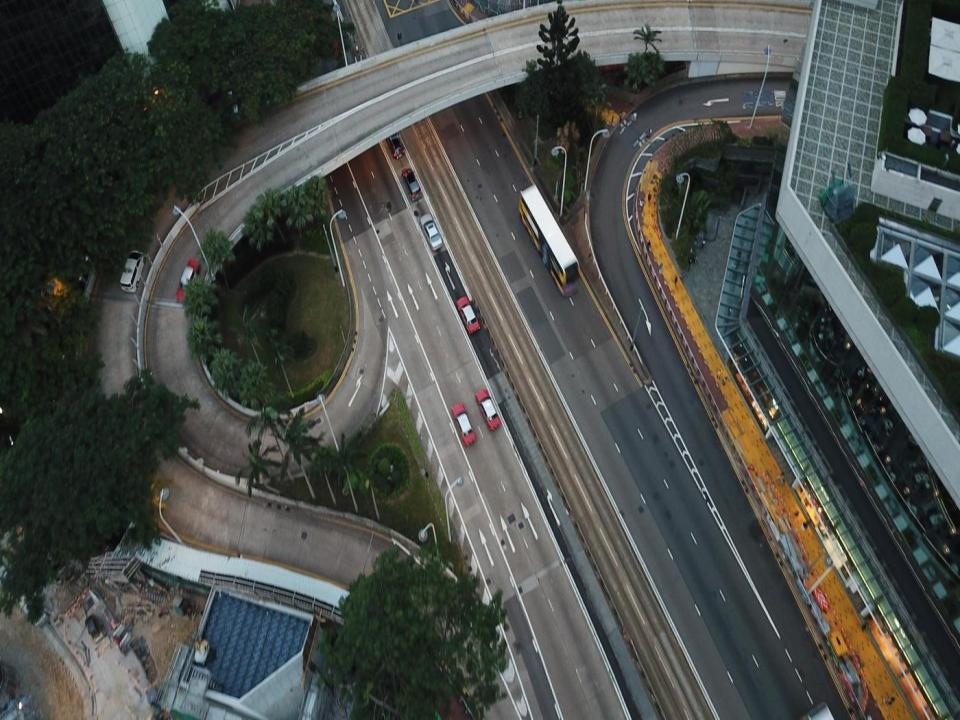bus: (518, 183, 579, 297)
car: (474, 386, 500, 430), (449, 401, 475, 445), (175, 258, 198, 302), (455, 295, 479, 335), (381, 121, 406, 158), (418, 212, 441, 251), (400, 166, 422, 201)
van: (119, 247, 144, 292)
